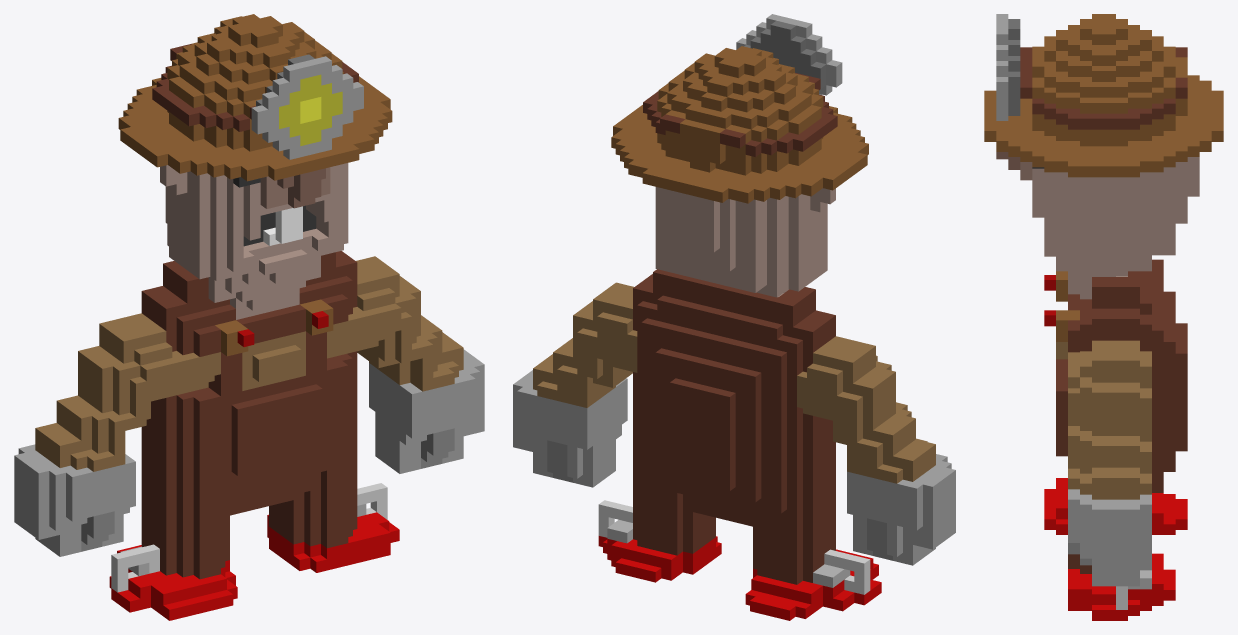
File: MoleGuy.obj
The picture shows the model from 3 angles, left to right: view 1: azimuth 30°, elevation 25°; view 2: azimuth 150°, elevation 25°; view 3: azimuth 270°, elevation 25°; orthographic projection. The views are drawn at different scales.
Bounding box in the file's own units: 4.2 × 4.9 × 2.
1 material, 1 textured.
